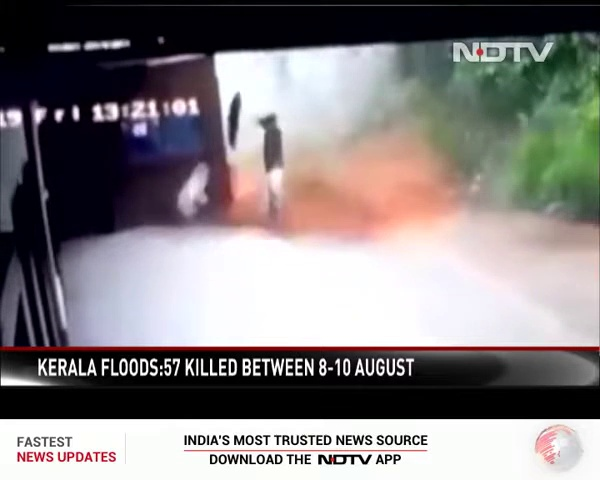person: (252, 114, 283, 225)
